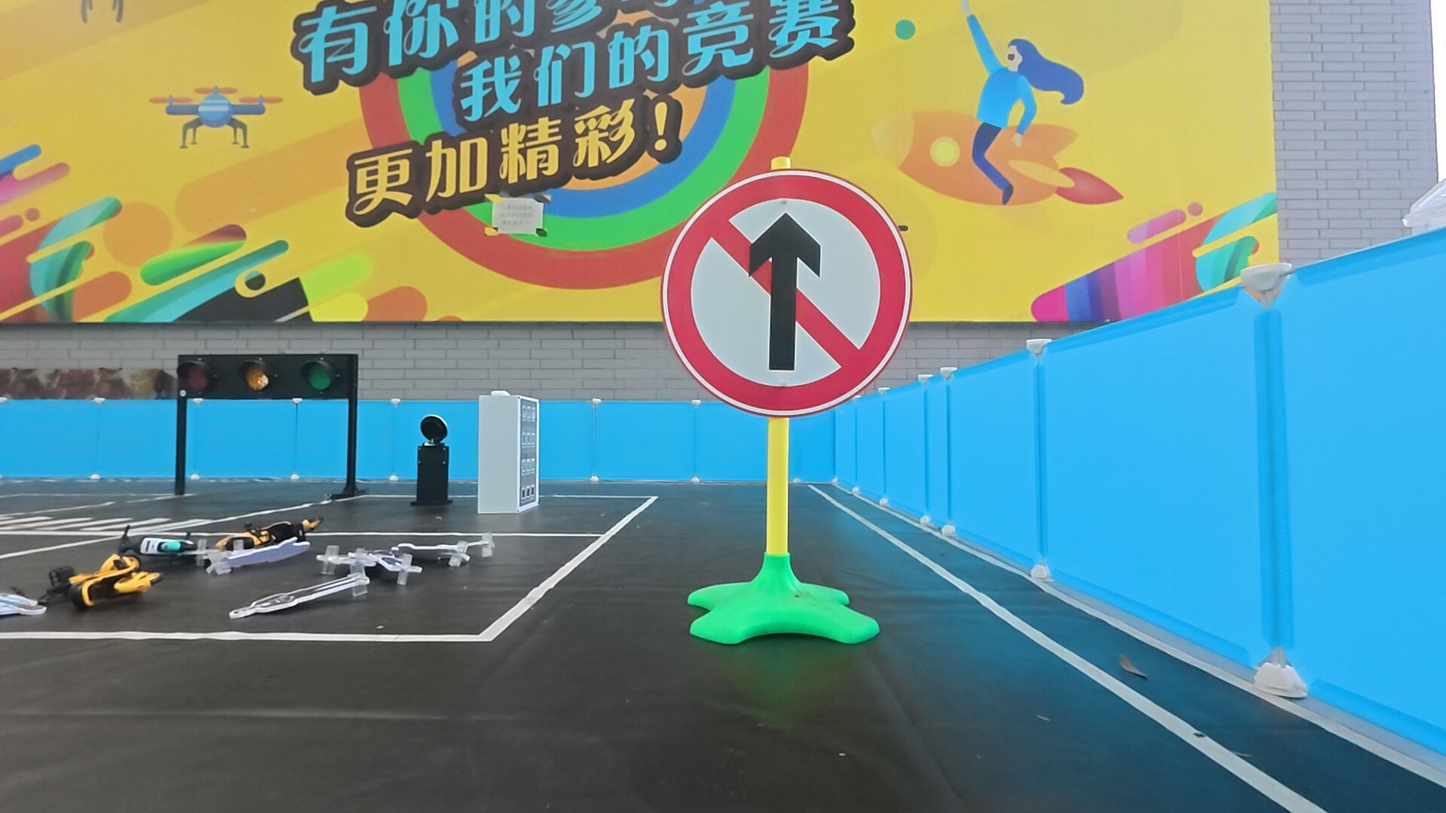obstacle: (662, 167, 915, 423)
